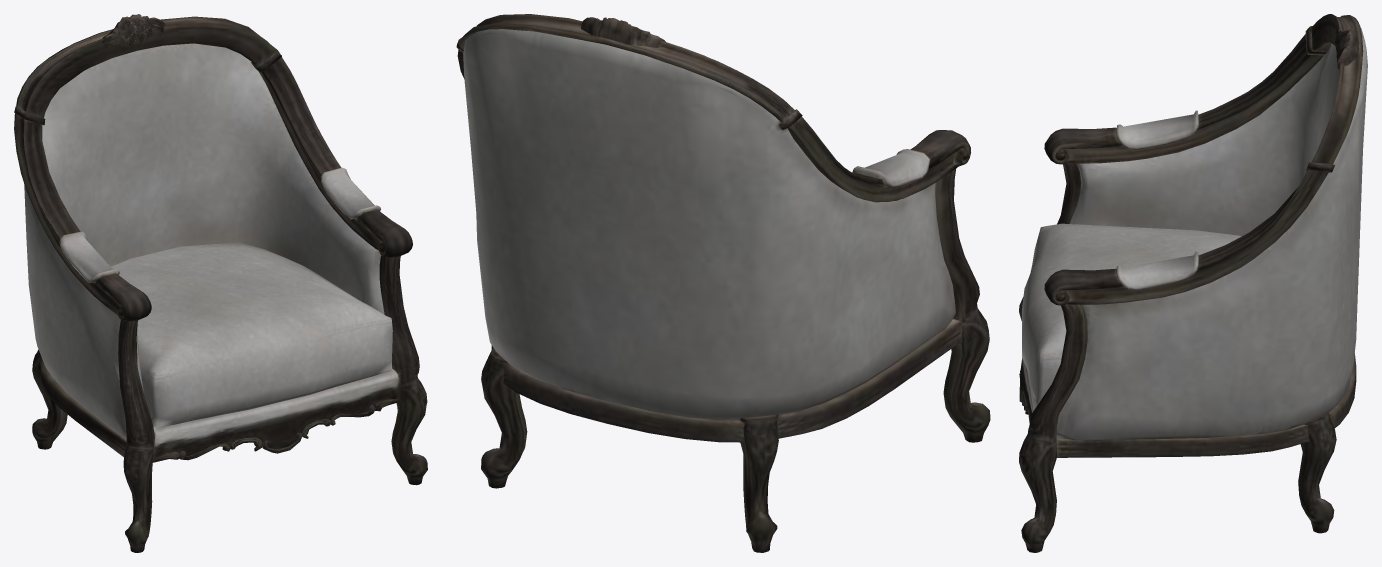
File: armchair.glb
3 renders of one model, left to right at view 1: azimuth 30°, elevation 25°; view 2: azimuth 150°, elevation 25°; view 3: azimuth 270°, elevation 25°, orthographic. The views are drawn at different scales.
Parts seen in each view (by area): view 1: ArmChair_01; view 2: ArmChair_01; view 3: ArmChair_01.
Part boxes in pixels (x1=…): ArmChair_01: x1=14, y1=14, x2=427, y2=552; ArmChair_01: x1=456, y1=14, x2=990, y2=552; ArmChair_01: x1=1019, y1=14, x2=1367, y2=552.
Bounding box in the file's own units: 0.8493 × 1.07 × 0.7656.
Materials: 1 (1 with a texture image).
